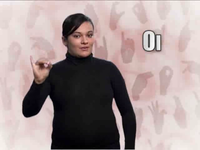oi: (29, 51, 52, 83)
